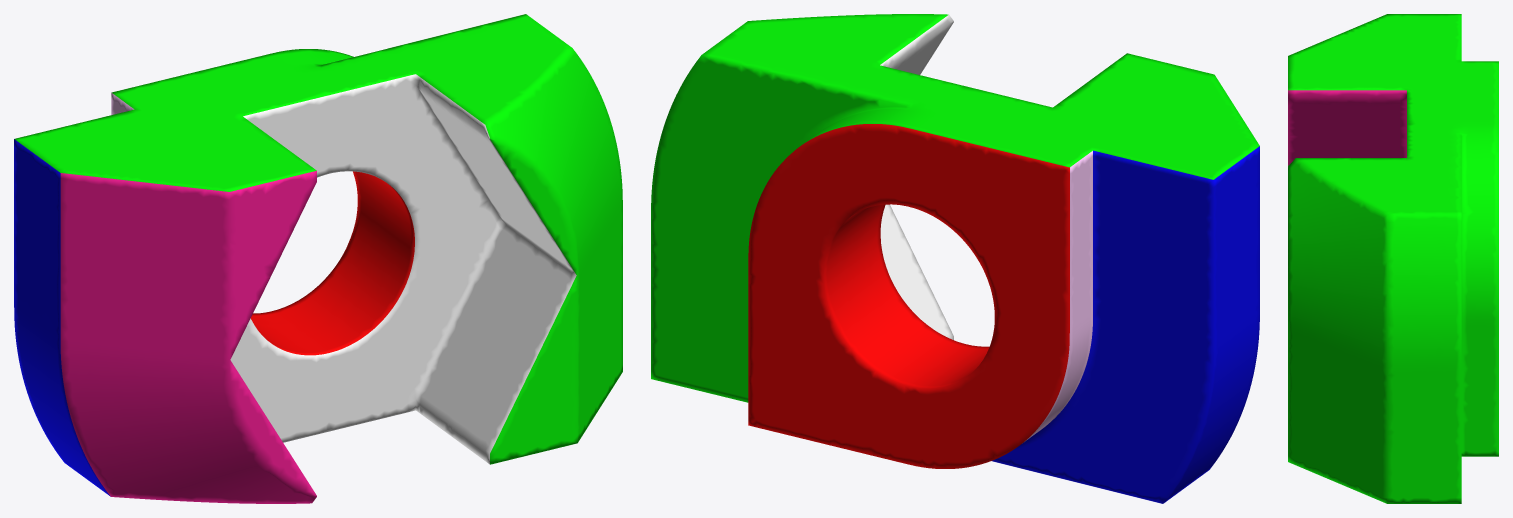
Rendered from model_34025_segmented.obj.
3 views of the same model, side by side, from view 1: azimuth 30°, elevation 25°; view 2: azimuth 150°, elevation 25°; view 3: azimuth 270°, elevation 25° (orthographic). The views are drawn at different scales.
Bounding box in the file's own units: 10.5 × 6 × 4.25.
